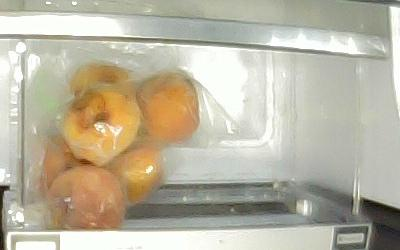peach_vinyl: (43, 163, 125, 229), (61, 88, 141, 155), (134, 69, 200, 141), (103, 135, 164, 204), (40, 135, 80, 193), (67, 60, 133, 95)
